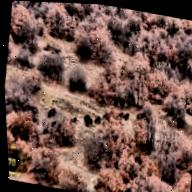boar: (93, 114, 101, 127), (83, 110, 93, 120), (122, 109, 130, 121), (134, 109, 143, 119), (85, 118, 92, 129)
